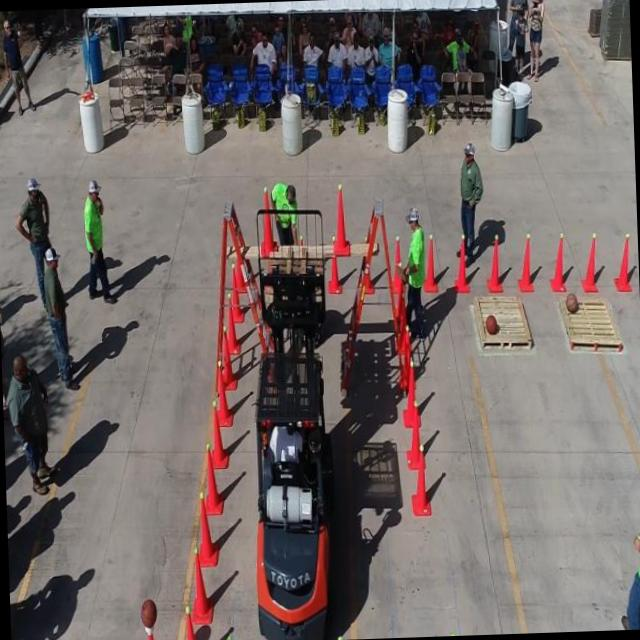forklift: (243, 274, 338, 640)
person: (7, 350, 54, 495), (42, 246, 79, 388), (82, 171, 117, 311), (0, 15, 35, 117), (619, 470, 640, 629), (401, 204, 426, 330), (458, 142, 484, 248), (15, 178, 48, 258), (525, 0, 545, 79), (273, 176, 295, 232), (448, 29, 469, 69), (0, 285, 7, 402), (378, 26, 396, 68), (253, 35, 275, 67), (347, 31, 364, 66), (328, 34, 346, 66), (364, 35, 378, 74), (304, 35, 318, 66), (511, 0, 526, 16)
